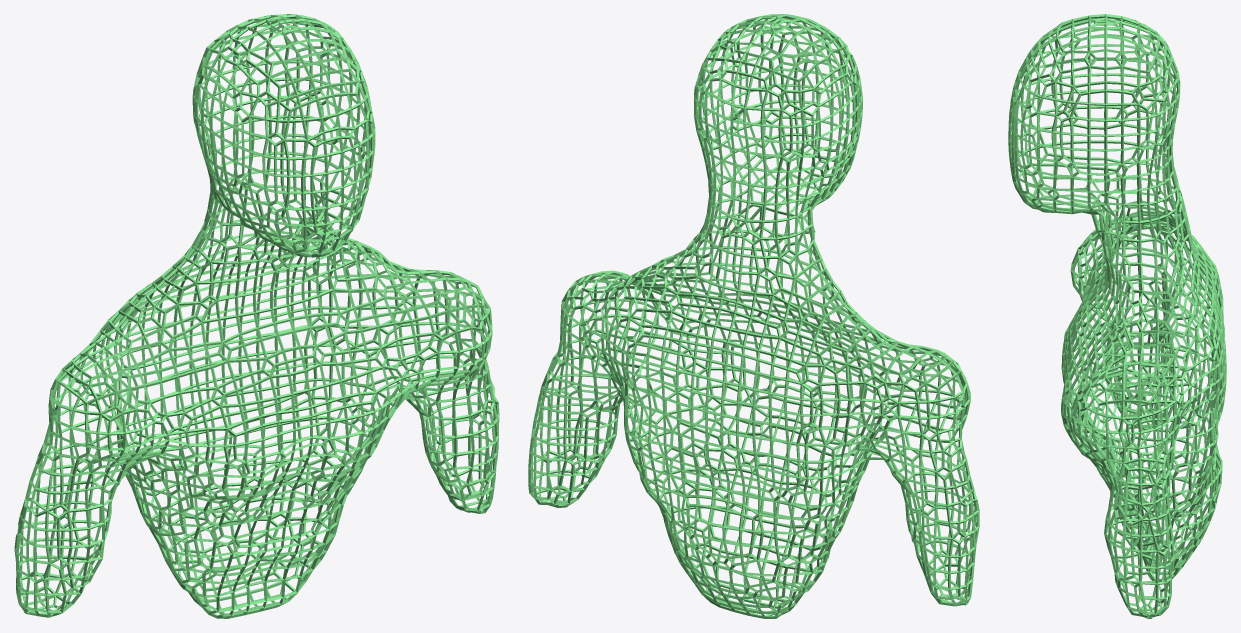
File: saiborg.glb
The picture shows the model from 3 angles, left to right: view 1: azimuth 30°, elevation 25°; view 2: azimuth 150°, elevation 25°; view 3: azimuth 270°, elevation 25°; orthographic projection. The views are drawn at different scales.
Visible parts, largest first — view 1: Sphere; view 2: Sphere; view 3: Sphere.
Part boxes in pixels (x1,y1,x2,y2): Sphere: [14, 14, 499, 618]; Sphere: [528, 14, 979, 618]; Sphere: [1008, 14, 1226, 618].
Size of the model in its own units: 5.5 by 6.81 by 2.45.
